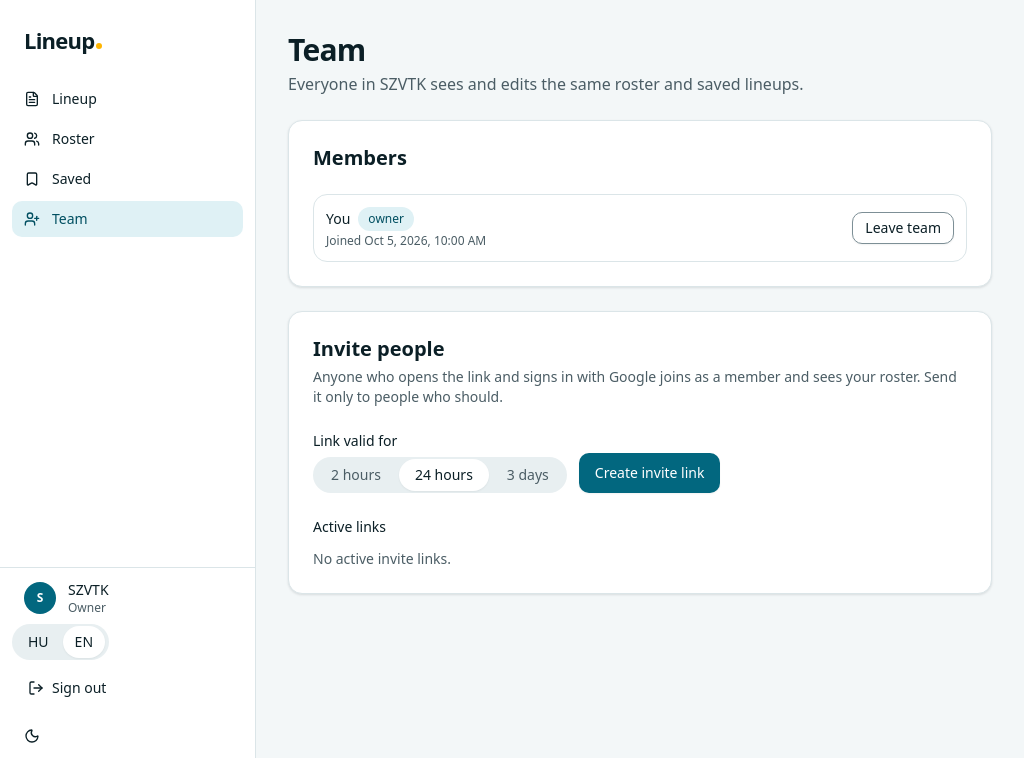
Test: creating a link › asks for 24 hours by default and shows the link once, with its expiry
Click the button "Create invite link" at coordinates (650, 473), box x1=579 y1=453 x2=720 y2=493
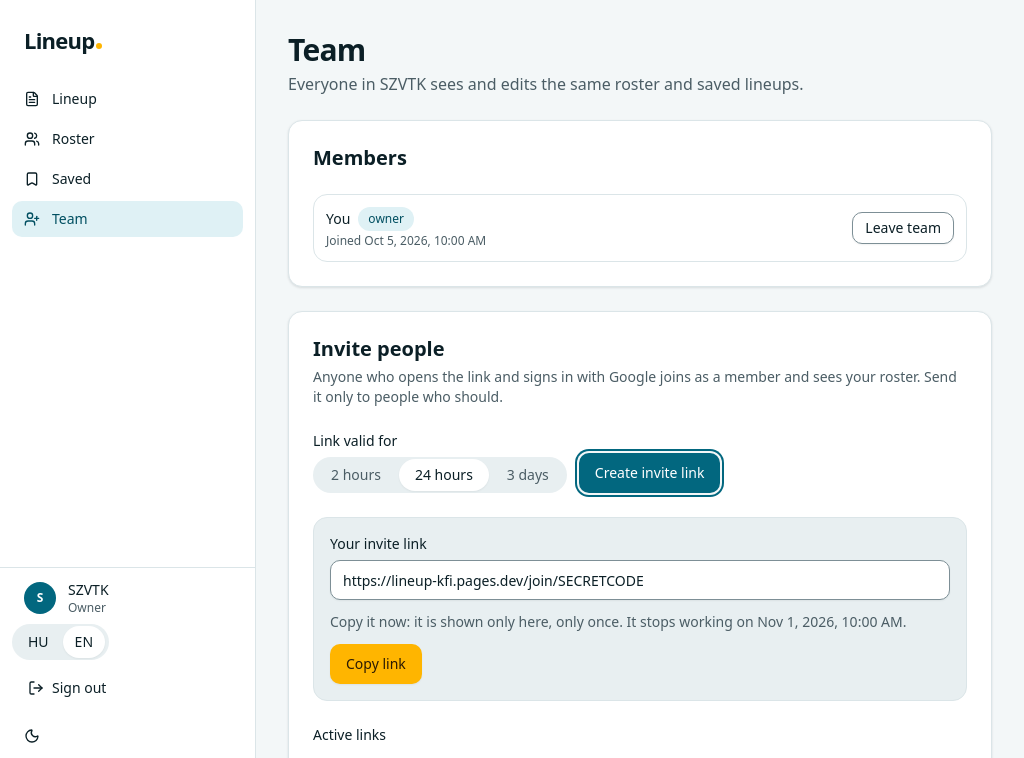
Expected: the field labelled "Your invite link" holds "https://lineup-kfi.pages.dev/join/SECRETCODE", x1=330 y1=560 x2=950 y2=600
Expected: the text "shown only here, only once" is shown, x1=330 y1=612 x2=906 y2=631
